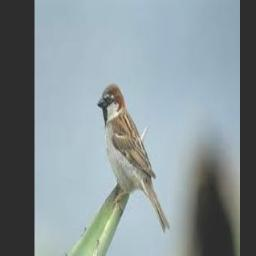Sparrow: (98, 82, 170, 231)
